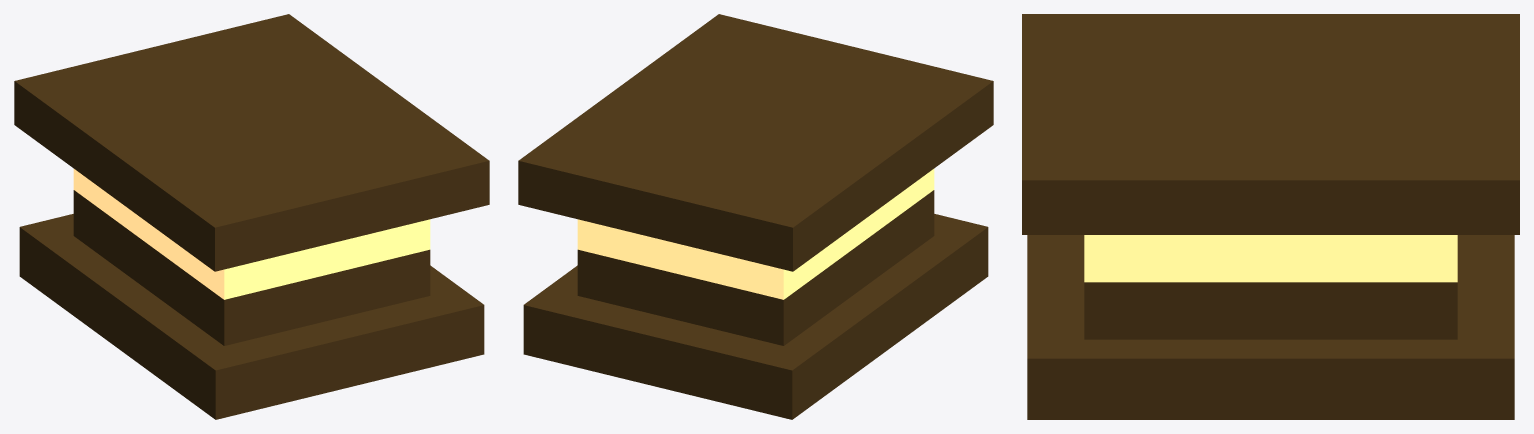
File: bg stone column.fbx
3 renders of one model, left to right at view 1: azimuth 30°, elevation 25°; view 2: azimuth 150°, elevation 25°; view 3: azimuth 270°, elevation 25°, orthographic. The views are drawn at different scales.
Visible parts, largest first — view 1: Cube.001; view 2: Cube.001; view 3: Cube.001.
Part boxes in pixels (x1=…): Cube.001: x1=14, y1=14, x2=489, y2=419; Cube.001: x1=518, y1=14, x2=993, y2=419; Cube.001: x1=1022, y1=14, x2=1519, y2=419.
Bounding box in the file's own units: 1809 × 1225 × 2288.
